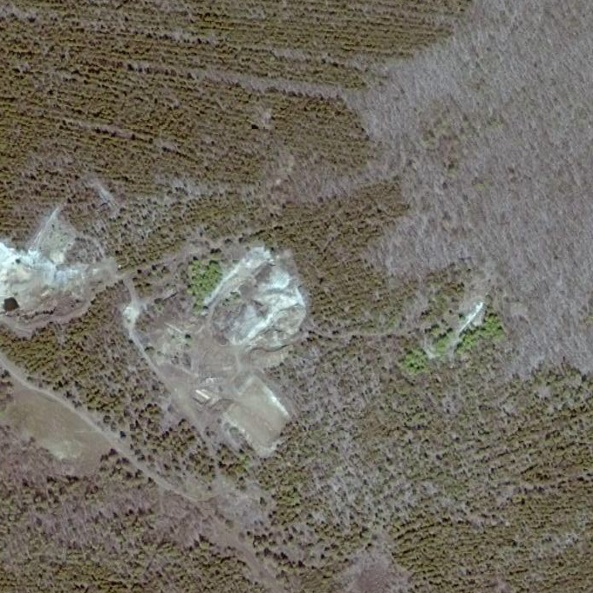slope: (196, 245, 305, 360), (0, 241, 89, 311)
